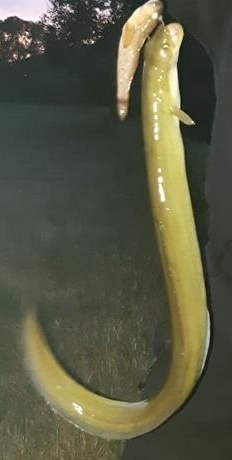Anguilla anguilla: (20, 20, 212, 440)
